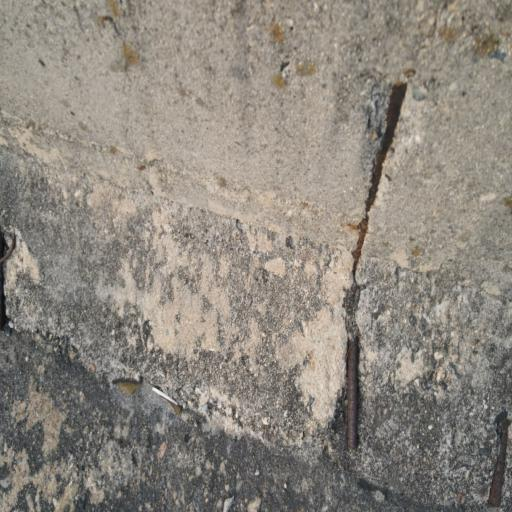exposed_rebar: (346, 84, 406, 313), (352, 82, 407, 278), (488, 412, 510, 508), (346, 334, 359, 450), (0, 231, 16, 264)
